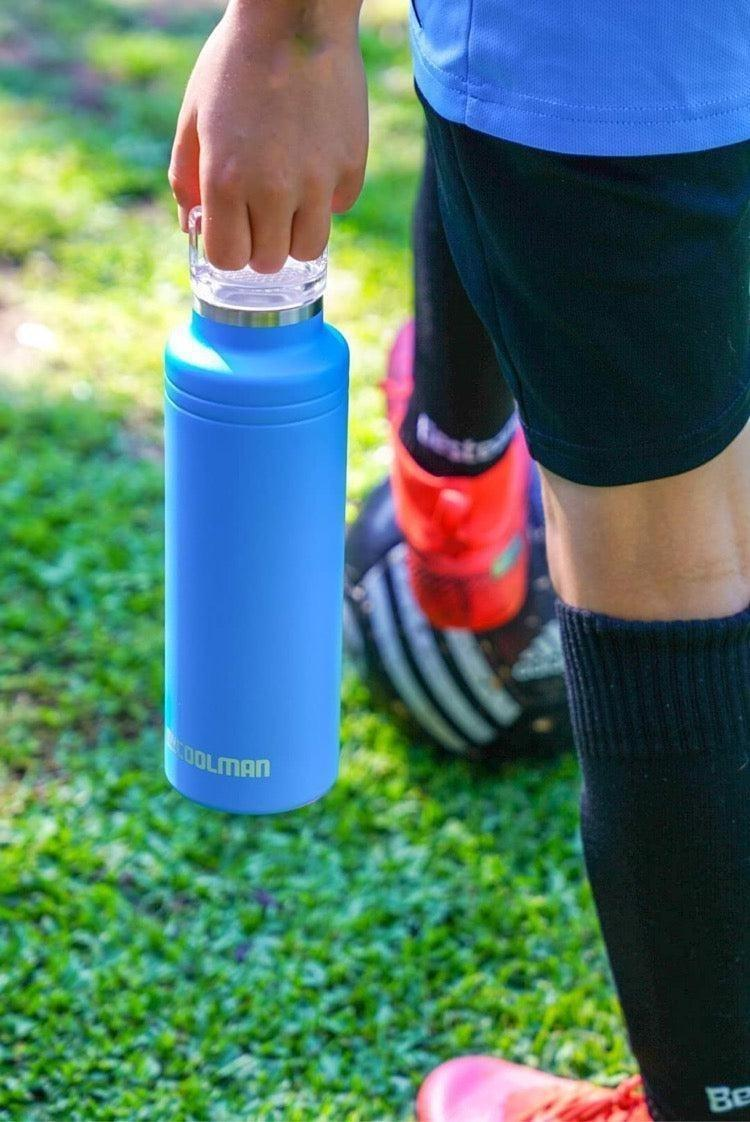gym bottle: (159, 202, 353, 817)
